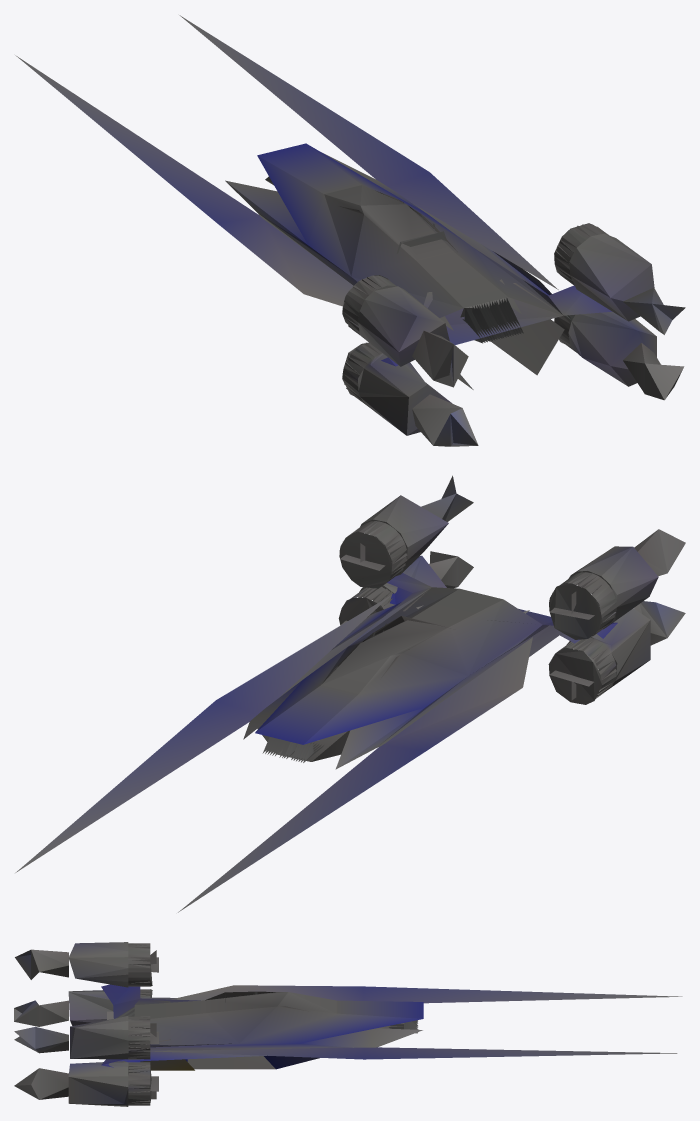
Rendered from uwing.glb.
The picture shows the model from 3 angles, top to bottom: view 1: azimuth 30°, elevation 25°; view 2: azimuth 150°, elevation 25°; view 3: azimuth 270°, elevation 25°; orthographic projection. The views are drawn at different scales.
Parts seen in each view (by area): view 1: uwing; view 2: uwing; view 3: uwing.
Boxes of the visible parts, x1,y1,x2,y2 form: uwing: (15,15,685,446); uwing: (15,475,685,912); uwing: (14,942,682,1106).
Bounding box in the file's own units: 162 × 71.86 × 500.
